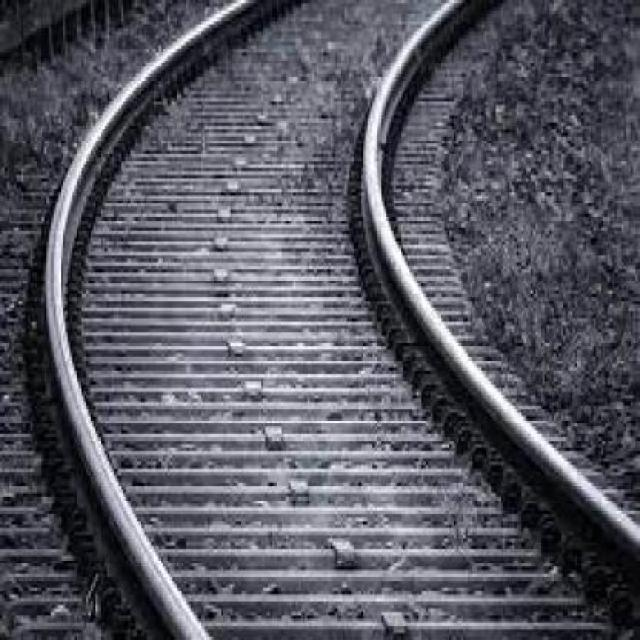rail: (11, 4, 636, 640)
